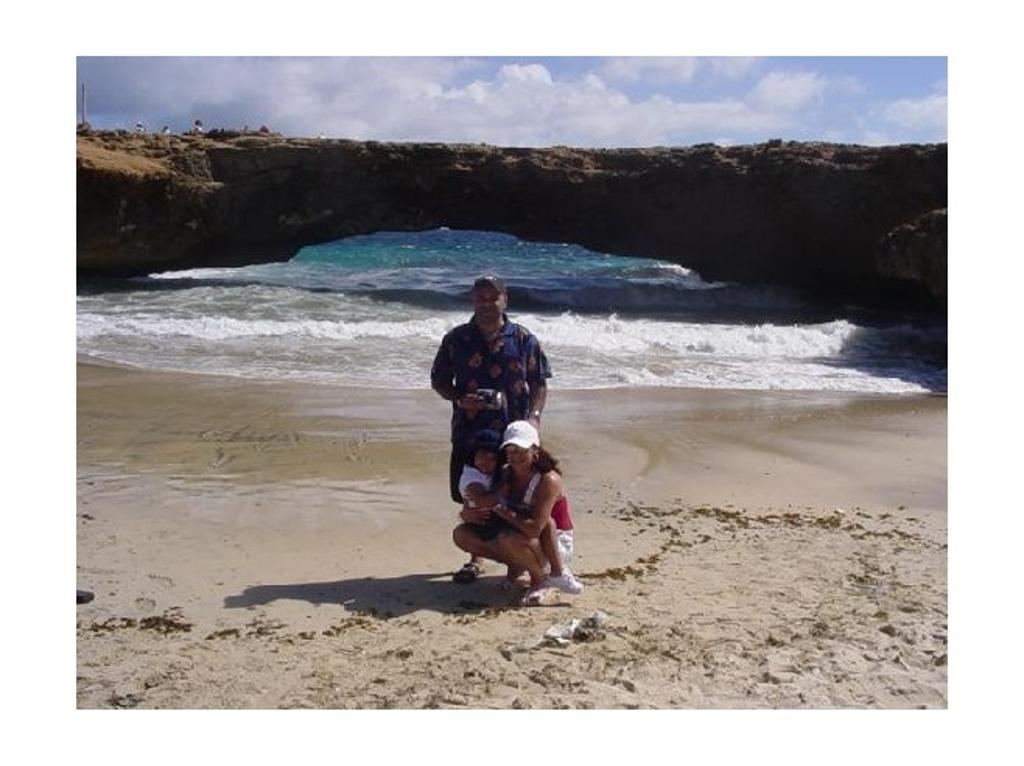face: (474, 282, 502, 319), (507, 439, 530, 470), (475, 446, 497, 471)
